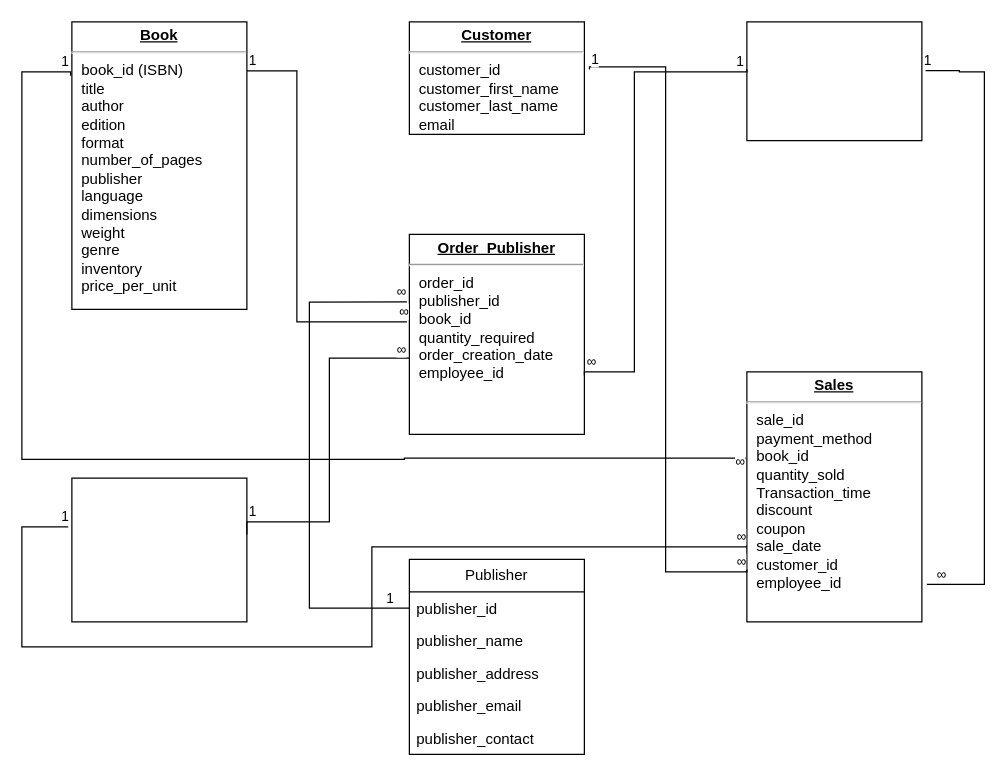
Image size: 1008x780. Some labels were removed from this diagram. Here are the shapes that lost their labels. From the top down, the box of each, then its label:
(746, 21, 922, 141): Employee employee_id employee_first_name employee_last_name position_title
(71, 477, 247, 622): Date date day_of_week year month day
